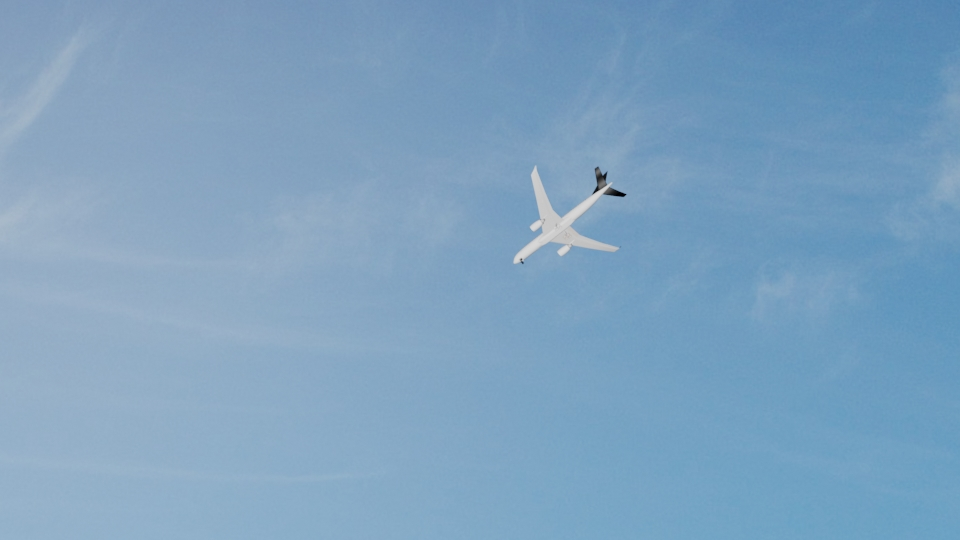plane: (511, 162, 624, 266)
